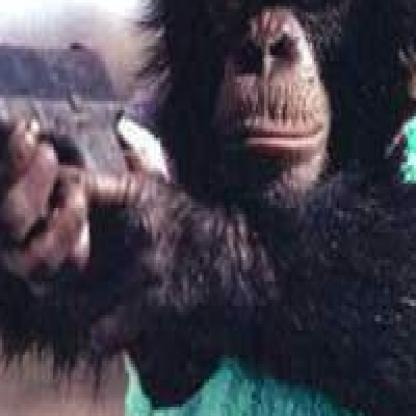gun: (0, 15, 190, 260)
